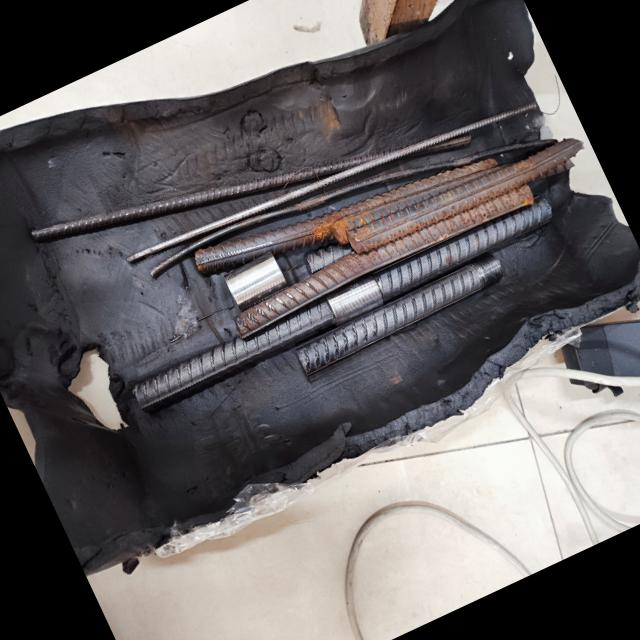Sleeve joint: (219, 248, 292, 313), (323, 276, 388, 328)
Welded link: (344, 150, 540, 282), (322, 135, 506, 255)
ribbed bar: (30, 41, 478, 327), (126, 188, 562, 418), (124, 67, 542, 293), (220, 126, 604, 344), (191, 111, 515, 315), (290, 250, 518, 386)
